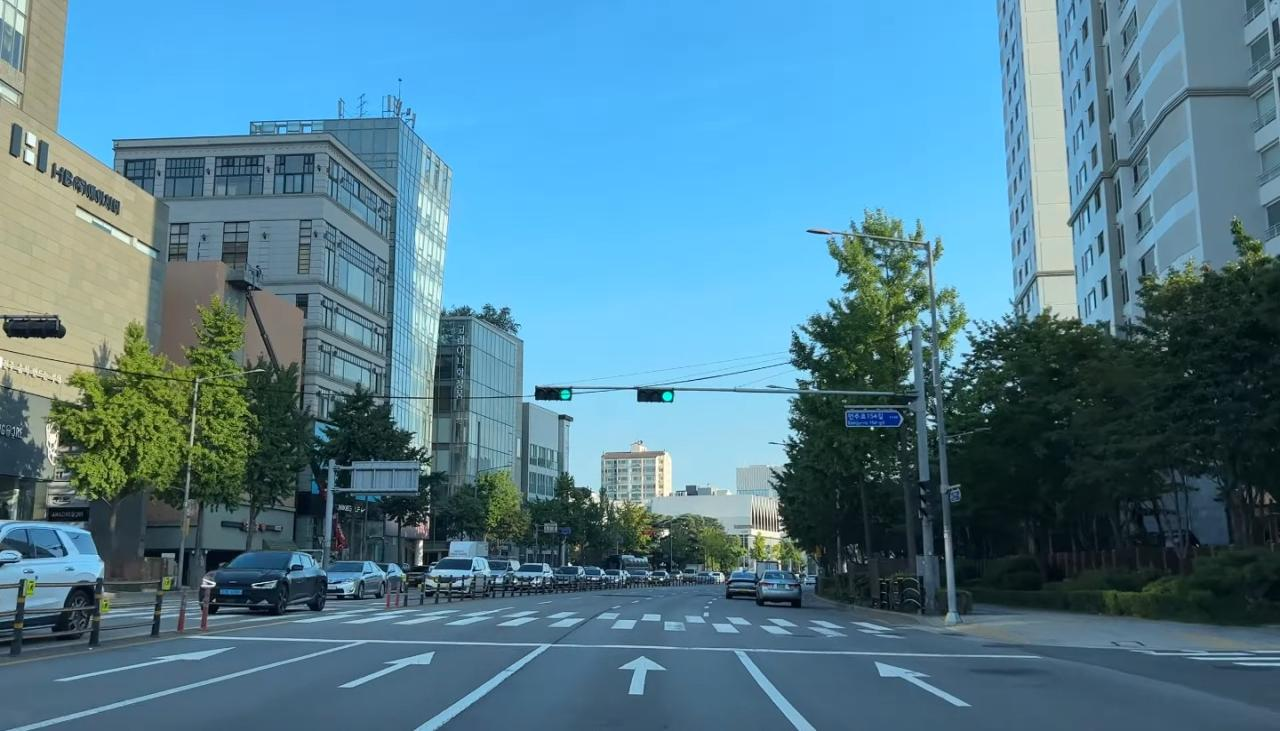Green Light: (661, 389, 674, 402), (558, 388, 572, 400)
